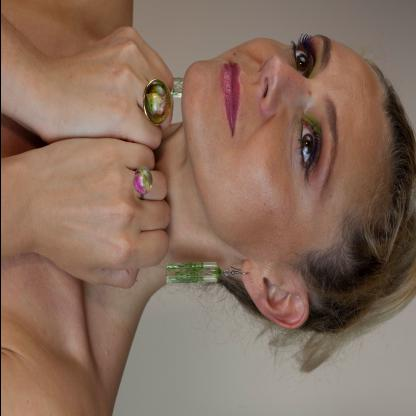Eye: (290, 115, 320, 180), (288, 43, 314, 78)
Mouth: (221, 62, 240, 137)
Nose: (256, 54, 308, 116)
